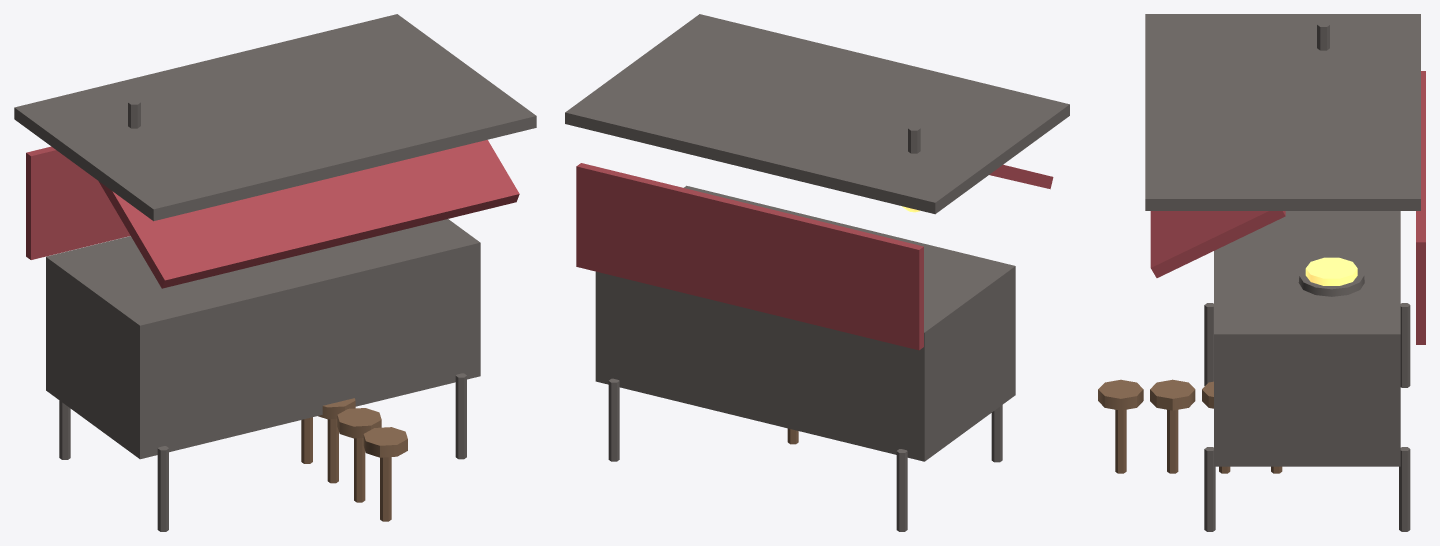
The model's file is noodle_stall.glb.
The picture shows the model from 3 angles, left to right: view 1: azimuth 30°, elevation 25°; view 2: azimuth 150°, elevation 25°; view 3: azimuth 270°, elevation 25°; orthographic projection. The views are drawn at different scales.
Parts seen in each view (by area): view 1: NoodleStall.Steel, NoodleStall.Vinyl, NoodleStall.Wood; view 2: NoodleStall.Steel, NoodleStall.Vinyl; view 3: NoodleStall.Steel, NoodleStall.Vinyl, NoodleStall.Wood, NoodleStall.Warm.
Part boxes in pixels (<box>): NoodleStall.Steel: <box>14,14,536,531</box>; NoodleStall.Vinyl: <box>26,140,519,288</box>; NoodleStall.Wood: <box>301,398,407,521</box>; NoodleStall.Steel: <box>565,14,1069,531</box>; NoodleStall.Vinyl: <box>576,163,1053,350</box>; NoodleStall.Steel: <box>1145,14,1420,531</box>; NoodleStall.Vinyl: <box>1150,71,1425,344</box>; NoodleStall.Wood: <box>1098,379,1282,473</box>; NoodleStall.Warm: <box>1305,257,1357,285</box>.
Size of the model in its own units: 2.7 by 2.55 by 2.02.
